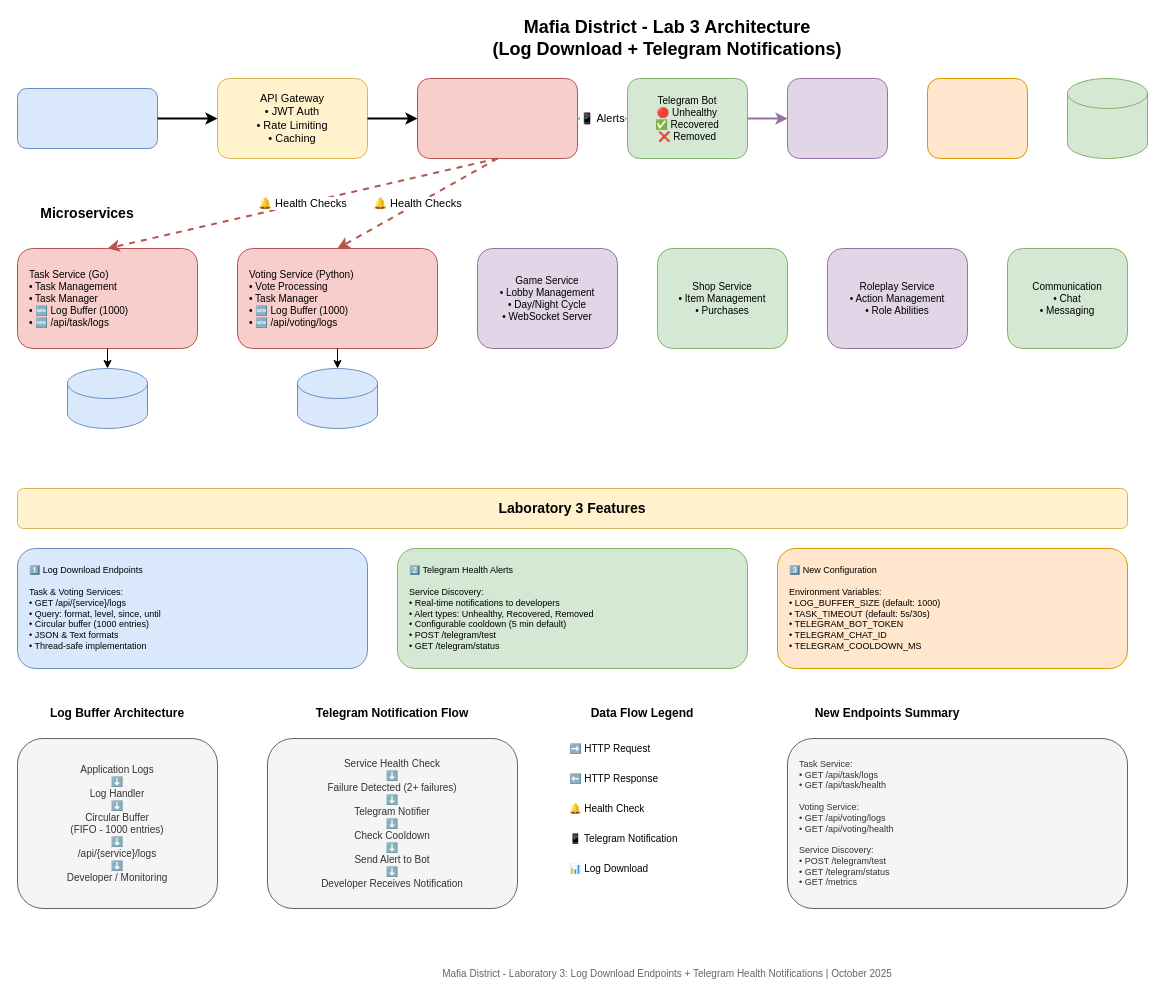
The diagram is 1165 pixels wide and 1006 high, and some of its shapes have lost their labels. Each missing label, with the box of its shape:
Client (Web/Mobile): (16, 88, 158, 148)
Developers 👨‍💻👩‍💻: (786, 78, 888, 158)
PostgreSQL: (66, 368, 148, 428)
Prometheus & Grafana: (926, 78, 1028, 158)
Redis Cache: (1066, 78, 1148, 158)
Service Discovery • Health Checks • Service Registry • 🆕 Telegram Alerts: (416, 78, 578, 158)
SQLite/ PostgreSQL: (296, 368, 378, 428)
